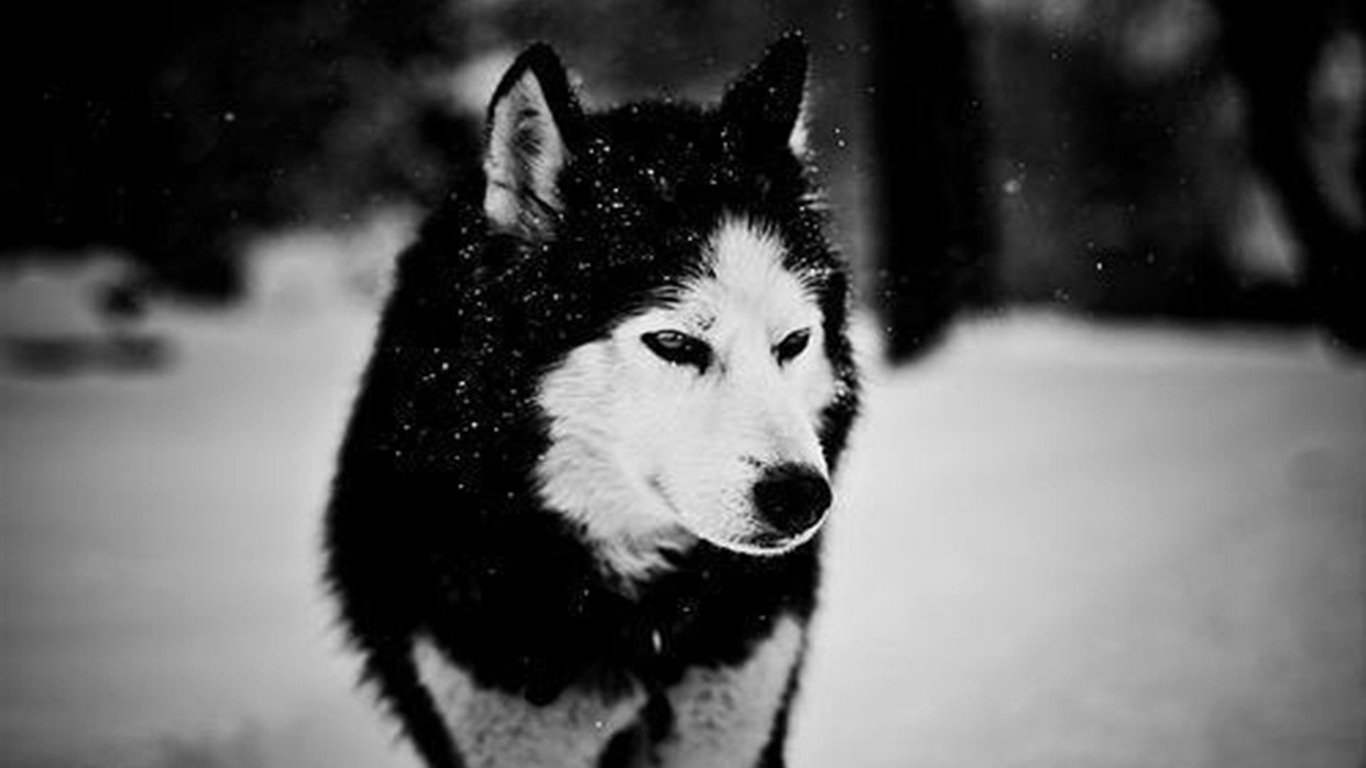Lobo: (398, 27, 873, 689)
